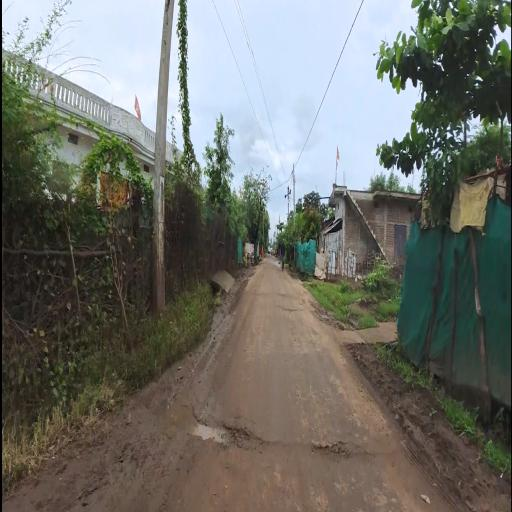longitudinal_crack: (187, 380, 404, 489)
